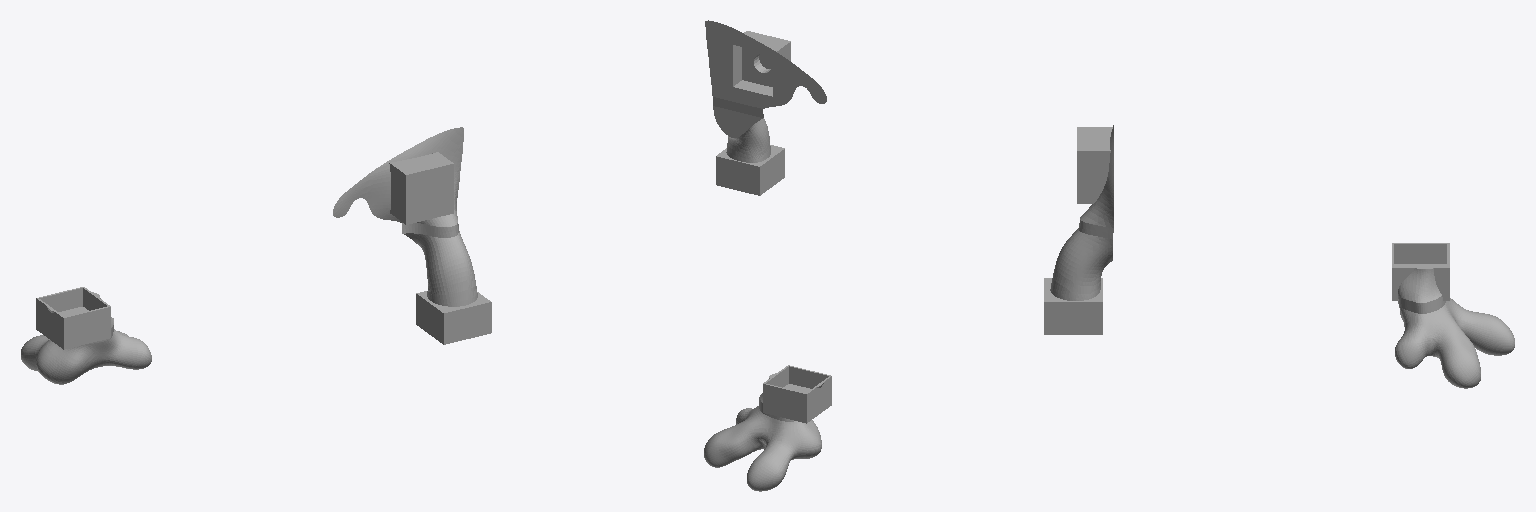
URDF robot description (FrogBot2_top-FrogBot2-y-2_bottom-FrogBot2-y-2):
<?xml version="1.0" ?>
<robot name="FrogBot2_top-FrogBot2-y-2_bottom-FrogBot2-y-2">

<material name="pla_5_percent_infill">
  <color rgba="0.700 0.700 0.700 1.000"/>
</material>

<link name="base_link">
  <inertial>
    <origin xyz="0 0 0" rpy="0 0 0"/>
    <mass value="1.3341577719423"/>
    <inertia ixx="0.0046797925109551535" iyy="0.011134478382956134" izz="0.010477176548232365" ixy="0.00012495104989682066" iyz="8.213962567094231e-05" ixz="-0.002474445058077273"/>
  </inertial>
  <visual>
    <origin xyz="0 0 0" rpy="0 0 0"/>
    <geometry>
      <mesh filename="simple_meshes/base_link.stl" scale="0.001 0.001 0.001"/>
    </geometry>
    <material name="pla_5_percent_infill"/>
  </visual>
  <collision>
    <origin xyz="0 0 0" rpy="0 0 0"/>
    <geometry>
      <mesh filename="simple_meshes/base_link.stl" scale="0.001 0.001 0.001"/>
    </geometry>
  </collision>
</link>

<link name="body_1_0_1">
  <inertial>
    <origin xyz="-0.053395 -0.09218 -0.023663" rpy="0 0 0"/>
    <mass value="0.05414963928909878"/>
    <inertia ixx="7.322096398285007e-05" iyy="7.66397325665337e-05" izz="1.852062050390342e-05" ixy="-2.89712407299165e-07" iyz="5.010657402395387e-06" ixz="8.030697066409615e-06"/>
  </inertial>
  <visual>
    <origin xyz="-0.053395 -0.09218 -0.023663" rpy="0 0 0"/>
    <geometry>
      <mesh filename="simple_meshes/body_1_0_1.stl" scale="0.001 0.001 0.001"/>
    </geometry>
    <material name="pla_5_percent_infill"/>
  </visual>
  <collision>
    <origin xyz="-0.053395 -0.09218 -0.023663" rpy="0 0 0"/>
    <geometry>
      <mesh filename="simple_meshes/body_1_0_1.stl" scale="0.001 0.001 0.001"/>
    </geometry>
  </collision>
</link>

<link name="body_1_1_1">
  <inertial>
    <origin xyz="0.095032 -0.09218 0.005345" rpy="0 0 0"/>
    <mass value="0.10539053543497807"/>
    <inertia ixx="7.648656435558371e-05" iyy="0.0001430534796682749" izz="0.00010447052140463795" ixy="4.835148880669203e-06" iyz="5.2590464795311325e-06" ixz="-4.030977417903884e-05"/>
  </inertial>
  <visual>
    <origin xyz="0.095032 -0.09218 0.005345" rpy="0 0 0"/>
    <geometry>
      <mesh filename="simple_meshes/body_1_1_1.stl" scale="0.001 0.001 0.001"/>
    </geometry>
    <material name="pla_5_percent_infill"/>
  </visual>
  <collision>
    <origin xyz="0.095032 -0.09218 0.005345" rpy="0 0 0"/>
    <geometry>
      <mesh filename="simple_meshes/body_1_1_1.stl" scale="0.001 0.001 0.001"/>
    </geometry>
  </collision>
</link>

<link name="body_1_2_1">
  <inertial>
    <origin xyz="-0.041549 0.09218 -0.043945" rpy="0 0 0"/>
    <mass value="0.06269270497452402"/>
    <inertia ixx="0.0001274523522902082" iyy="0.00013273599338279397" izz="2.9663636528539598e-05" ixy="1.6049821966907267e-06" iyz="-1.789621160224474e-05" ixz="1.923788717101208e-05"/>
  </inertial>
  <visual>
    <origin xyz="-0.041549 0.09218 -0.043945" rpy="0 0 0"/>
    <geometry>
      <mesh filename="simple_meshes/body_1_2_1.stl" scale="0.001 0.001 0.001"/>
    </geometry>
    <material name="pla_5_percent_infill"/>
  </visual>
  <collision>
    <origin xyz="-0.041549 0.09218 -0.043945" rpy="0 0 0"/>
    <geometry>
      <mesh filename="simple_meshes/body_1_2_1.stl" scale="0.001 0.001 0.001"/>
    </geometry>
  </collision>
</link>

<link name="body_1_3_1">
  <inertial>
    <origin xyz="0.087142 0.09218 -0.003397" rpy="0 0 0"/>
    <mass value="0.10787180234964276"/>
    <inertia ixx="7.886455923860084e-05" iyy="0.00014385653190250548" izz="0.0001048913590200179" ixy="-7.808333796017293e-06" iyz="-5.332847926788661e-06" ixz="-4.051559471153574e-05"/>
  </inertial>
  <visual>
    <origin xyz="0.087142 0.09218 -0.003397" rpy="0 0 0"/>
    <geometry>
      <mesh filename="simple_meshes/body_1_3_1.stl" scale="0.001 0.001 0.001"/>
    </geometry>
    <material name="pla_5_percent_infill"/>
  </visual>
  <collision>
    <origin xyz="0.087142 0.09218 -0.003397" rpy="0 0 0"/>
    <geometry>
      <mesh filename="simple_meshes/body_1_3_1.stl" scale="0.001 0.001 0.001"/>
    </geometry>
  </collision>
</link>

<link name="body_2_0_1">
  <inertial>
    <origin xyz="-0.065654 -0.139685 0.104558" rpy="0 0 0"/>
    <mass value="0.10406700997069096"/>
    <inertia ixx="0.00011346126229997647" iyy="0.00012540832924920302" izz="0.00018991199658074552" ixy="-1.0599562162534864e-05" iyz="5.623529840863197e-06" ixz="6.012270217499102e-06"/>
  </inertial>
  <visual>
    <origin xyz="-0.065654 -0.139685 0.104558" rpy="0 0 0"/>
    <geometry>
      <mesh filename="simple_meshes/body_2_0_1.stl" scale="0.001 0.001 0.001"/>
    </geometry>
    <material name="pla_5_percent_infill"/>
  </visual>
  <collision>
    <origin xyz="-0.065654 -0.139685 0.104558" rpy="0 0 0"/>
    <geometry>
      <mesh filename="simple_meshes/body_2_0_1.stl" scale="0.001 0.001 0.001"/>
    </geometry>
  </collision>
</link>

<link name="body_2_1_1">
  <inertial>
    <origin xyz="0.15751 -0.143533 0.104558" rpy="0 0 0"/>
    <mass value="0.0838339036483167"/>
    <inertia ixx="7.079126809306138e-05" iyy="8.554588669685333e-05" izz="9.618263412858666e-05" ixy="-1.6466551472772532e-07" iyz="1.9491246345120904e-05" ixz="1.100508674867131e-05"/>
  </inertial>
  <visual>
    <origin xyz="0.15751 -0.143533 0.104558" rpy="0 0 0"/>
    <geometry>
      <mesh filename="simple_meshes/body_2_1_1.stl" scale="0.001 0.001 0.001"/>
    </geometry>
    <material name="pla_5_percent_infill"/>
  </visual>
  <collision>
    <origin xyz="0.15751 -0.143533 0.104558" rpy="0 0 0"/>
    <geometry>
      <mesh filename="simple_meshes/body_2_1_1.stl" scale="0.001 0.001 0.001"/>
    </geometry>
  </collision>
</link>

<link name="body_2_2_1">
  <inertial>
    <origin xyz="-0.061161 0.145934 0.104558" rpy="0 0 0"/>
    <mass value="0.10170962552979187"/>
    <inertia ixx="0.00011361666083858392" iyy="0.00012234015262982357" izz="0.000189771339919756" ixy="1.1740307942443781e-05" iyz="-3.1636338973235582e-06" ixz="3.0916583550935194e-06"/>
  </inertial>
  <visual>
    <origin xyz="-0.061161 0.145934 0.104558" rpy="0 0 0"/>
    <geometry>
      <mesh filename="simple_meshes/body_2_2_1.stl" scale="0.001 0.001 0.001"/>
    </geometry>
    <material name="pla_5_percent_infill"/>
  </visual>
  <collision>
    <origin xyz="-0.061161 0.145934 0.104558" rpy="0 0 0"/>
    <geometry>
      <mesh filename="simple_meshes/body_2_2_1.stl" scale="0.001 0.001 0.001"/>
    </geometry>
  </collision>
</link>

<link name="body_2_3_1">
  <inertial>
    <origin xyz="0.160089 0.145768 0.104558" rpy="0 0 0"/>
    <mass value="0.07875681307487732"/>
    <inertia ixx="7.258512439480523e-05" iyy="8.114153741713755e-05" izz="9.064756746616316e-05" ixy="-5.987692897877796e-07" iyz="-2.1021696683060174e-05" ixz="1.4471384925871834e-05"/>
  </inertial>
  <visual>
    <origin xyz="0.160089 0.145768 0.104558" rpy="0 0 0"/>
    <geometry>
      <mesh filename="simple_meshes/body_2_3_1.stl" scale="0.001 0.001 0.001"/>
    </geometry>
    <material name="pla_5_percent_infill"/>
  </visual>
  <collision>
    <origin xyz="0.160089 0.145768 0.104558" rpy="0 0 0"/>
    <geometry>
      <mesh filename="simple_meshes/body_2_3_1.stl" scale="0.001 0.001 0.001"/>
    </geometry>
  </collision>
</link>

<joint name="joint_1_0" type="revolute">
  <origin xyz="0.053395 0.09218 0.023663" rpy="0 0 0"/>
  <parent link="base_link"/>
  <child link="body_1_0_1"/>
  <axis xyz="0.0 0.0 -1.0"/>
  <limit upper="1.2" lower="-1.2" effort="3.8" velocity="5.4"/>
</joint>
<transmission name="joint_1_0_tran">
  <type>transmission_interface/SimpleTransmission</type>
  <joint name="joint_1_0">
    <hardwareInterface>PositionJointInterface</hardwareInterface>
  </joint>
  <actuator name="joint_1_0_actr">
    <hardwareInterface>PositionJointInterface</hardwareInterface>
    <mechanicalReduction>1</mechanicalReduction>
  </actuator>
</transmission>

<joint name="joint_1_1" type="revolute">
  <origin xyz="-0.095032 0.09218 -0.005345" rpy="0 0 0"/>
  <parent link="base_link"/>
  <child link="body_1_1_1"/>
  <axis xyz="0.0 0.0 -1.0"/>
  <limit upper="1.2" lower="-1.2" effort="3.8" velocity="5.4"/>
</joint>
<transmission name="joint_1_1_tran">
  <type>transmission_interface/SimpleTransmission</type>
  <joint name="joint_1_1">
    <hardwareInterface>PositionJointInterface</hardwareInterface>
  </joint>
  <actuator name="joint_1_1_actr">
    <hardwareInterface>PositionJointInterface</hardwareInterface>
    <mechanicalReduction>1</mechanicalReduction>
  </actuator>
</transmission>

<joint name="joint_1_2" type="revolute">
  <origin xyz="0.041549 -0.09218 0.043945" rpy="0 0 0"/>
  <parent link="base_link"/>
  <child link="body_1_2_1"/>
  <axis xyz="0.0 0.0 -1.0"/>
  <limit upper="1.2" lower="-1.2" effort="3.8" velocity="5.4"/>
</joint>
<transmission name="joint_1_2_tran">
  <type>transmission_interface/SimpleTransmission</type>
  <joint name="joint_1_2">
    <hardwareInterface>PositionJointInterface</hardwareInterface>
  </joint>
  <actuator name="joint_1_2_actr">
    <hardwareInterface>PositionJointInterface</hardwareInterface>
    <mechanicalReduction>1</mechanicalReduction>
  </actuator>
</transmission>

<joint name="joint_1_3" type="revolute">
  <origin xyz="-0.087142 -0.09218 0.003397" rpy="0 0 0"/>
  <parent link="base_link"/>
  <child link="body_1_3_1"/>
  <axis xyz="0.0 0.0 -1.0"/>
  <limit upper="1.2" lower="-1.2" effort="3.8" velocity="5.4"/>
</joint>
<transmission name="joint_1_3_tran">
  <type>transmission_interface/SimpleTransmission</type>
  <joint name="joint_1_3">
    <hardwareInterface>PositionJointInterface</hardwareInterface>
  </joint>
  <actuator name="joint_1_3_actr">
    <hardwareInterface>PositionJointInterface</hardwareInterface>
    <mechanicalReduction>1</mechanicalReduction>
  </actuator>
</transmission>

<joint name="joint_2_0" type="revolute">
  <origin xyz="0.012259 0.047505 -0.128221" rpy="0 0 0"/>
  <parent link="body_1_0_1"/>
  <child link="body_2_0_1"/>
  <axis xyz="0.0 1.0 0.0"/>
  <limit upper="1.2" lower="-1.2" effort="3.8" velocity="5.4"/>
</joint>
<transmission name="joint_2_0_tran">
  <type>transmission_interface/SimpleTransmission</type>
  <joint name="joint_2_0">
    <hardwareInterface>PositionJointInterface</hardwareInterface>
  </joint>
  <actuator name="joint_2_0_actr">
    <hardwareInterface>PositionJointInterface</hardwareInterface>
    <mechanicalReduction>1</mechanicalReduction>
  </actuator>
</transmission>

<joint name="joint_2_1" type="revolute">
  <origin xyz="-0.062478 0.051353 -0.099213" rpy="0 0 0"/>
  <parent link="body_1_1_1"/>
  <child link="body_2_1_1"/>
  <axis xyz="0.0 1.0 0.0"/>
  <limit upper="1.2" lower="-1.2" effort="3.8" velocity="5.4"/>
</joint>
<transmission name="joint_2_1_tran">
  <type>transmission_interface/SimpleTransmission</type>
  <joint name="joint_2_1">
    <hardwareInterface>PositionJointInterface</hardwareInterface>
  </joint>
  <actuator name="joint_2_1_actr">
    <hardwareInterface>PositionJointInterface</hardwareInterface>
    <mechanicalReduction>1</mechanicalReduction>
  </actuator>
</transmission>

<joint name="joint_2_2" type="revolute">
  <origin xyz="0.019612 -0.053754 -0.148503" rpy="0 0 0"/>
  <parent link="body_1_2_1"/>
  <child link="body_2_2_1"/>
  <axis xyz="0.0 1.0 0.0"/>
  <limit upper="1.2" lower="-1.2" effort="3.8" velocity="5.4"/>
</joint>
<transmission name="joint_2_2_tran">
  <type>transmission_interface/SimpleTransmission</type>
  <joint name="joint_2_2">
    <hardwareInterface>PositionJointInterface</hardwareInterface>
  </joint>
  <actuator name="joint_2_2_actr">
    <hardwareInterface>PositionJointInterface</hardwareInterface>
    <mechanicalReduction>1</mechanicalReduction>
  </actuator>
</transmission>

<joint name="joint_2_3" type="revolute">
  <origin xyz="-0.072947 -0.053588 -0.107955" rpy="0 0 0"/>
  <parent link="body_1_3_1"/>
  <child link="body_2_3_1"/>
  <axis xyz="0.0 1.0 0.0"/>
  <limit upper="1.2" lower="-1.2" effort="3.8" velocity="5.4"/>
</joint>
<transmission name="joint_2_3_tran">
  <type>transmission_interface/SimpleTransmission</type>
  <joint name="joint_2_3">
    <hardwareInterface>PositionJointInterface</hardwareInterface>
  </joint>
  <actuator name="joint_2_3_actr">
    <hardwareInterface>PositionJointInterface</hardwareInterface>
    <mechanicalReduction>1</mechanicalReduction>
  </actuator>
</transmission>

</robot>

--- Render facts (derived) ---
3 views of the same robot in one strip: view 1: azimuth 30°, elevation 25°; view 2: azimuth 150°, elevation 25°; view 3: azimuth 270°, elevation 25° (orthographic).
Model FrogBot2_top-FrogBot2-y-2_bottom-FrogBot2-y-2 with 9 links and 8 joints (8 revolute), rooted at base_link, posed all joints at 0.
Links seen in each view (by area): view 1: body_1_2_1, body_2_1_1; view 2: body_1_2_1, body_2_1_1; view 3: body_2_1_1, body_1_2_1.
Link boxes in pixels (<box>): body_1_2_1: <box>333,127,491,344</box>; body_2_1_1: <box>21,287,151,384</box>; body_1_2_1: <box>705,20,826,195</box>; body_2_1_1: <box>704,365,831,491</box>; body_2_1_1: <box>1392,243,1514,388</box>; body_1_2_1: <box>1044,125,1113,334</box>.
Bounding box of the posed robot: 0.2788 × 0.3926 × 0.3064 m (x, y, z).
2 mesh visuals loaded from 9 distinct referenced files (2 binary STL); not drawn: 7 (reference not matched to a file when rendering).